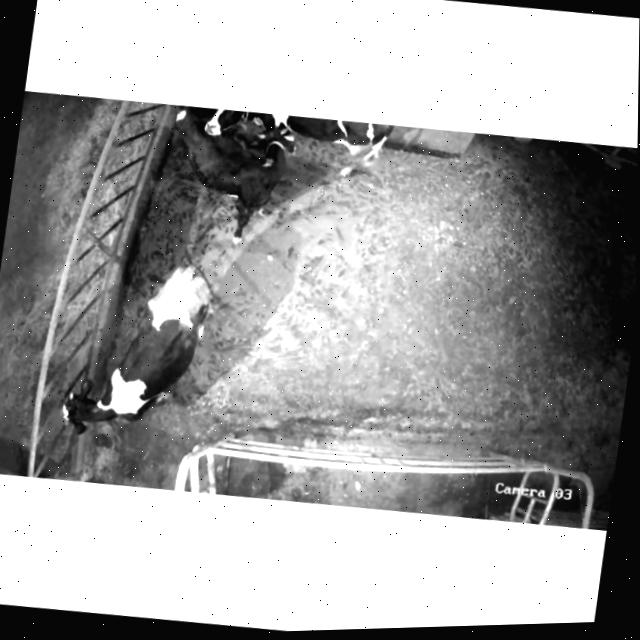propping: (190, 105, 253, 159)
